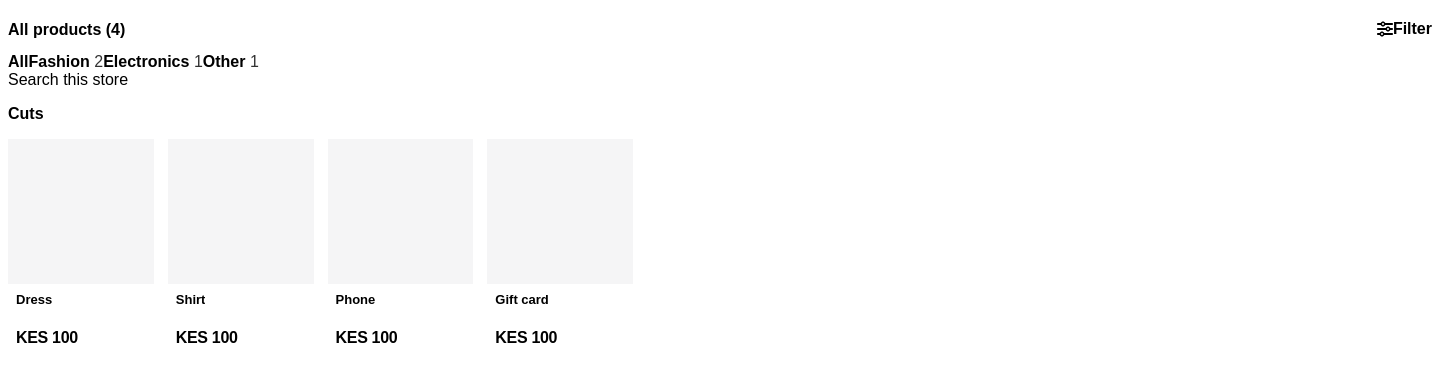
Test: Services: browse the shop by department › filters to one department, counts it, and goes back to all
Click the button "Fashion 2". click: (66, 62)
box: [28,52,103,70]
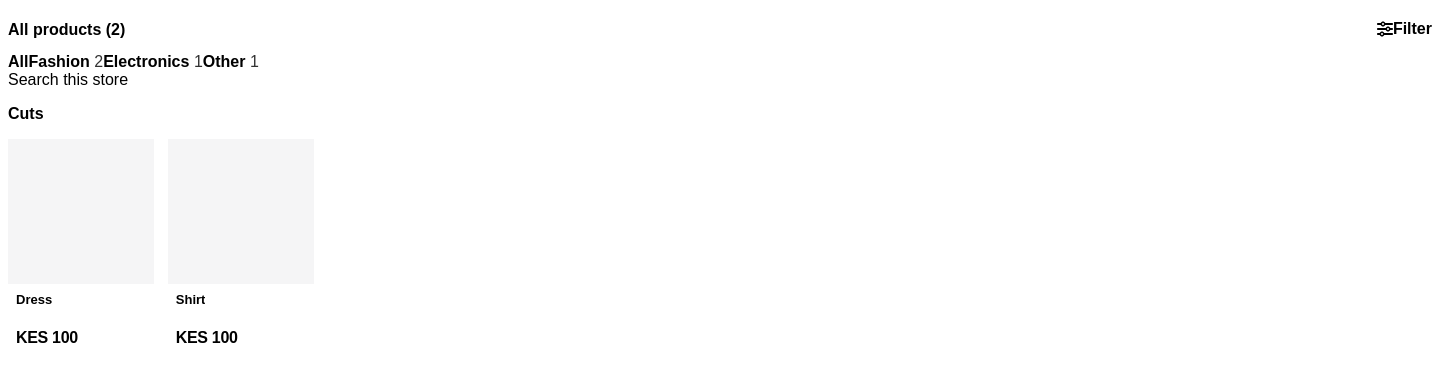
Expected: the text "Dress" is shown, [16,292,52,307]
Expected: the button "Phone" is gone
Expected: the element "All products (2)" is shown
Click the button "Other 1". click: (231, 62)
box: [203,52,259,70]
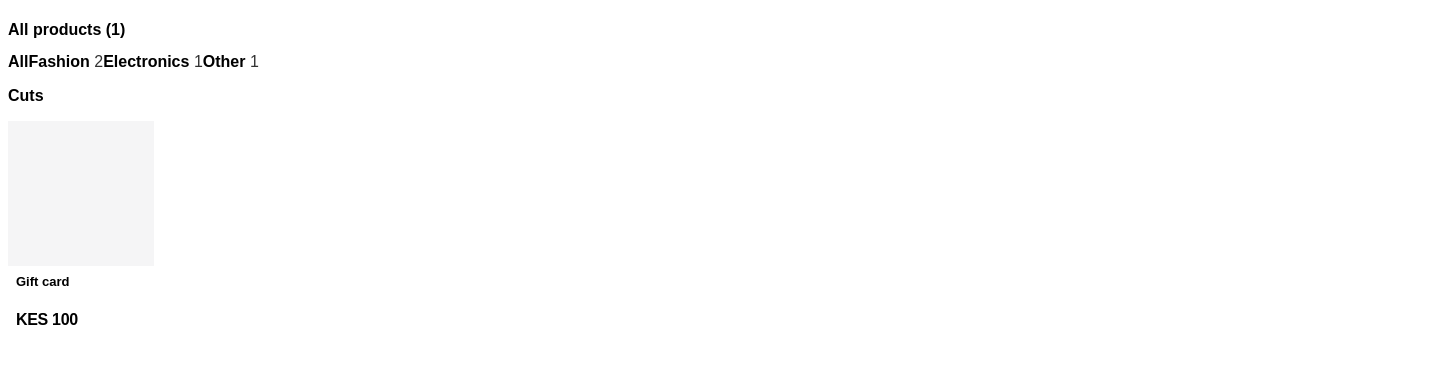
Expected: the text "Gift card" is shown, [16,274,70,289]
Expected: the button "Dress" is gone
Click the button "All". click: (18, 62)
box: [8,52,28,70]
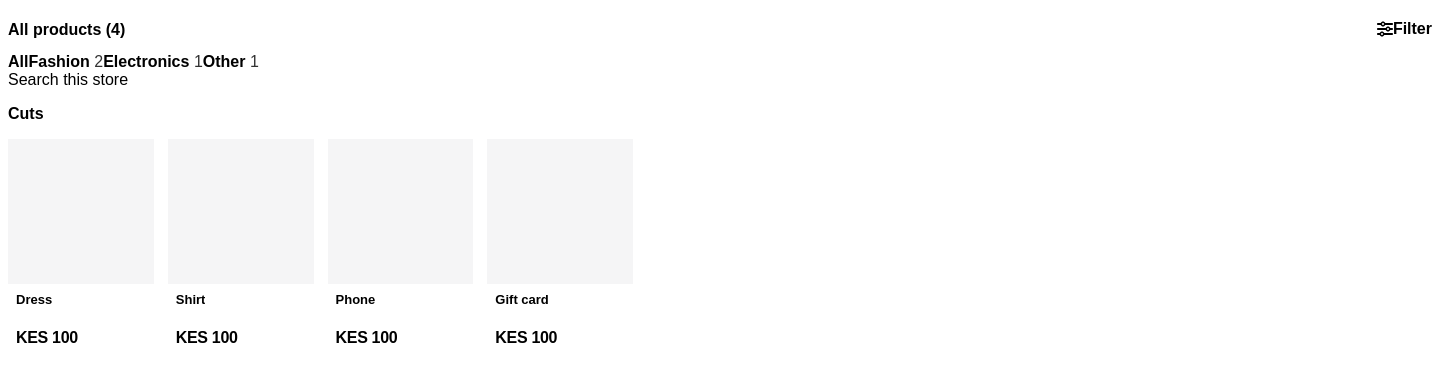
Expected: the text "Phone" is shown, [336,292,375,307]
